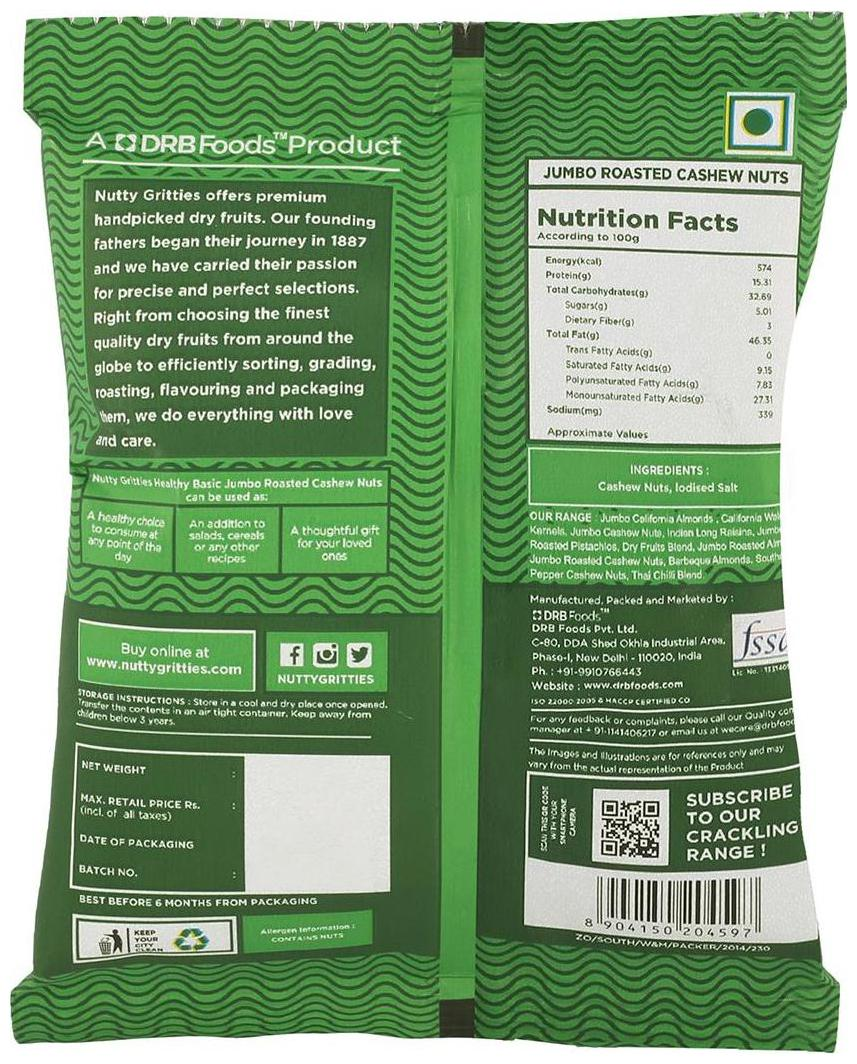fssai: (735, 620, 787, 662)
